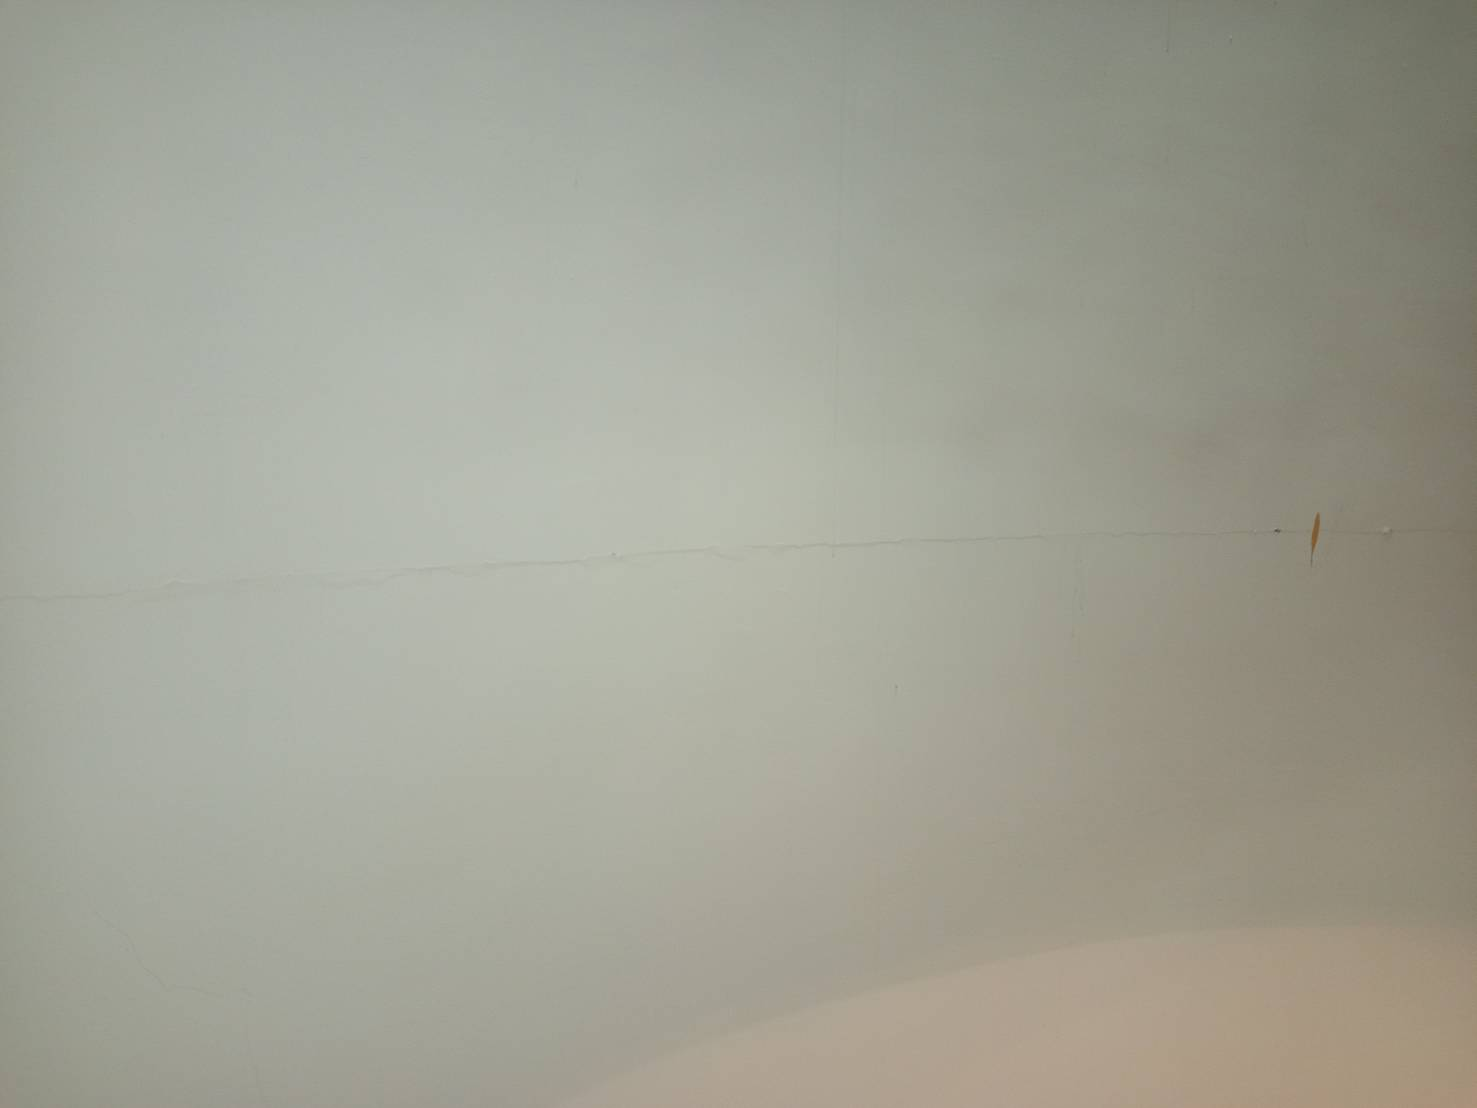Low: (1, 478, 1470, 610)
